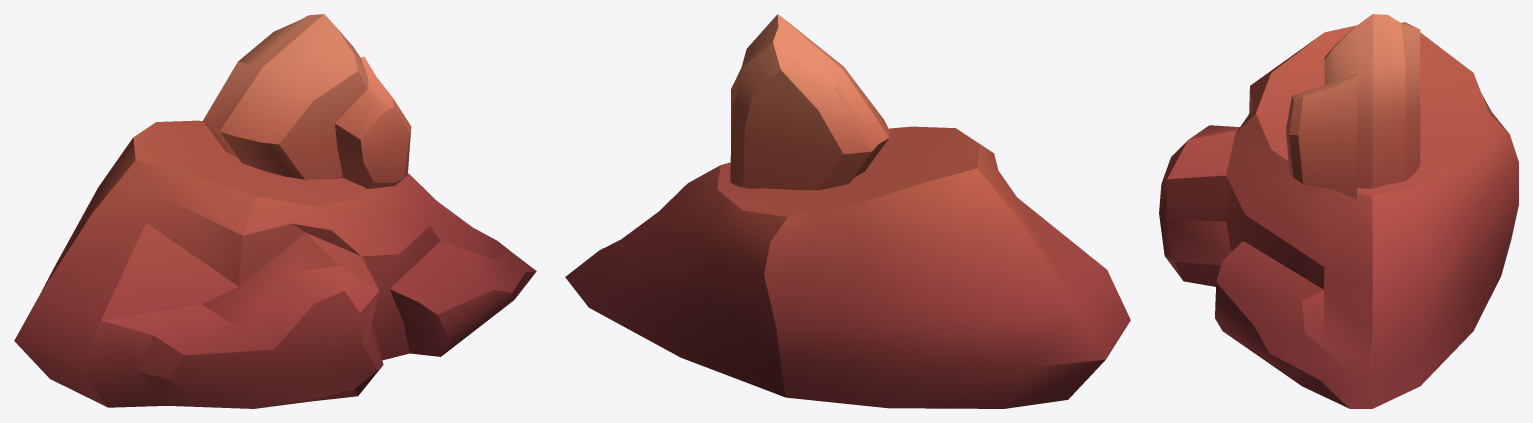
File: Rocks_V06.fbx
3 renders of one model, left to right at view 1: azimuth 30°, elevation 25°; view 2: azimuth 150°, elevation 25°; view 3: azimuth 270°, elevation 25°, orthographic. The views are drawn at different scales.
Visible parts, largest first — view 1: SM_Rock_V06_C01_01; view 2: SM_Rock_V06_C01_01; view 3: SM_Rock_V06_C01_01.
Boxes of the visible parts, box(x1,y1,x2,y2) form: SM_Rock_V06_C01_01: box(14, 14, 536, 408); SM_Rock_V06_C01_01: box(565, 14, 1130, 408); SM_Rock_V06_C01_01: box(1159, 14, 1518, 408).
Bounding box in the file's own units: 933 × 520 × 570.
